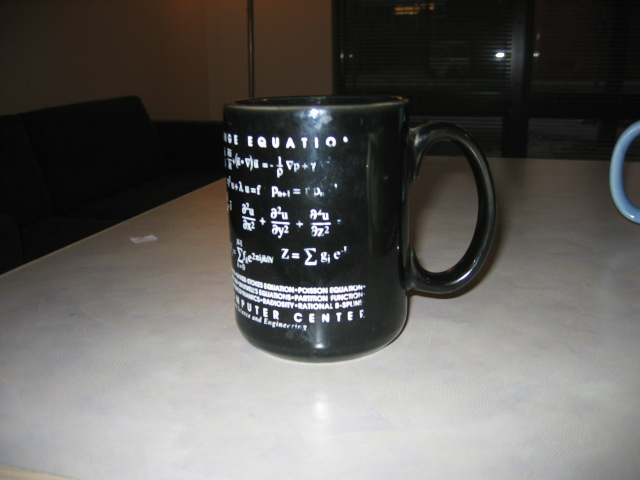mug: (218, 88, 502, 366)
